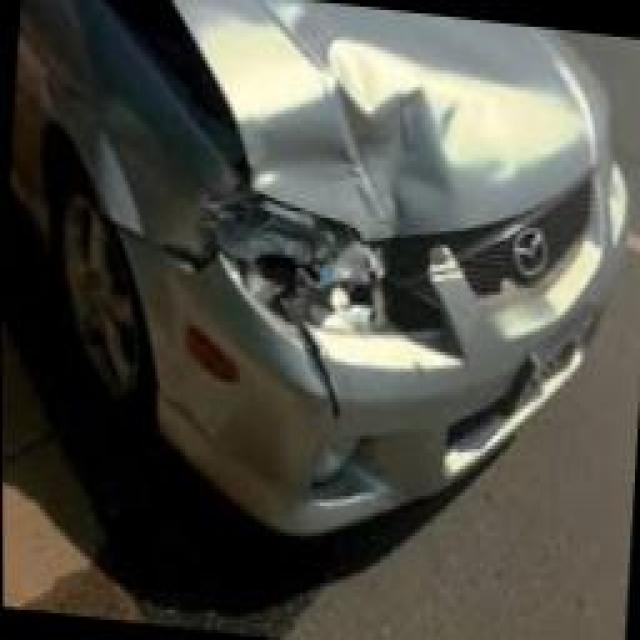replaceable: (187, 212, 406, 407), (201, 20, 415, 199)
